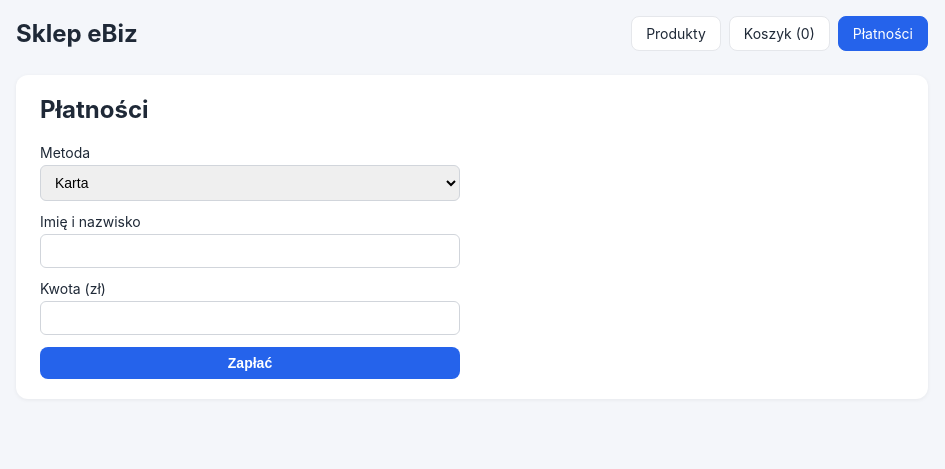
it: 19 - Błąd płatności po stronie serwera › pokazuje fallback gdy backend nie zwraca komunikatu
The width and height of the screenshot is (945, 469).
Step 1. Type "Test User" into the field labelled "Imię i nazwisko" → (250, 251), box [40, 234, 460, 268]
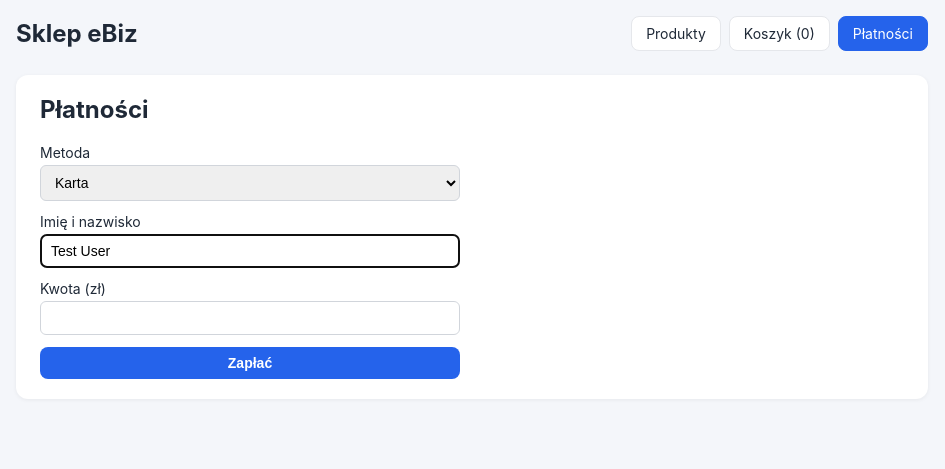
Step 2. Type "99.99" into the number field labelled "Kwota (zł)" → (250, 318), box [40, 301, 460, 335]
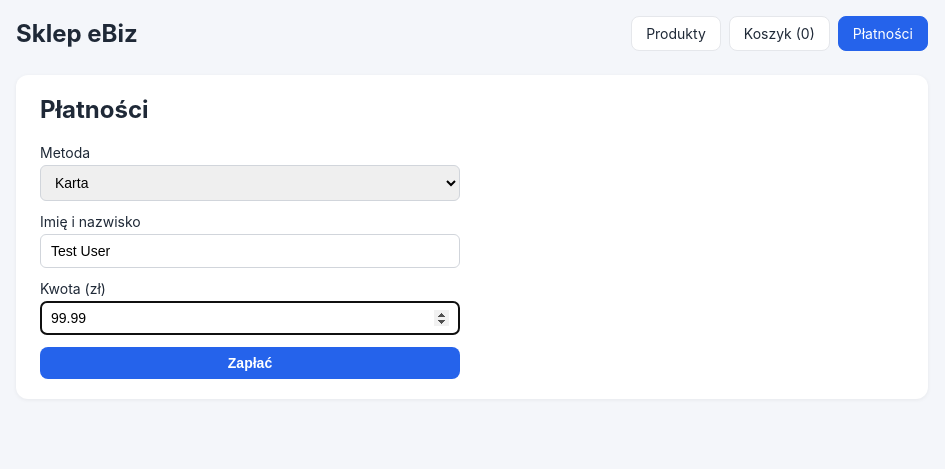
Step 3. Click the button "Zapłać" → (250, 363), box [40, 347, 460, 379]
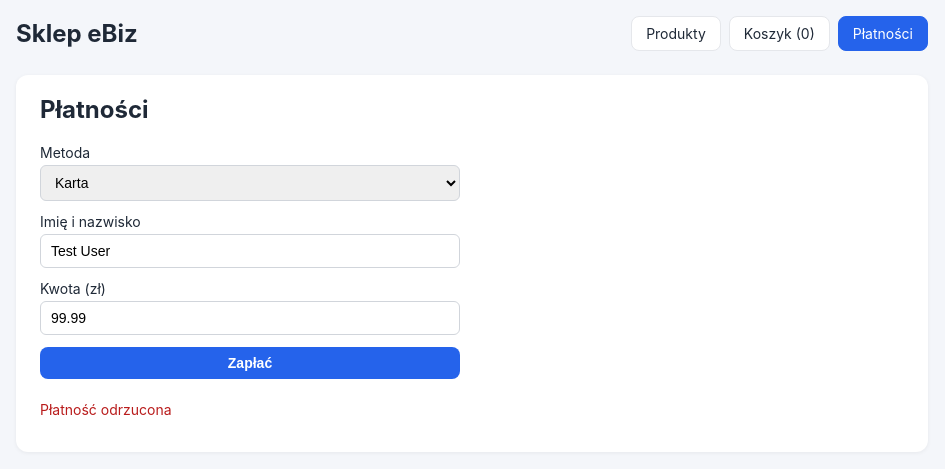
Result: the text with class "err" reads "Płatność odrzucona" at [40, 401, 172, 418]
